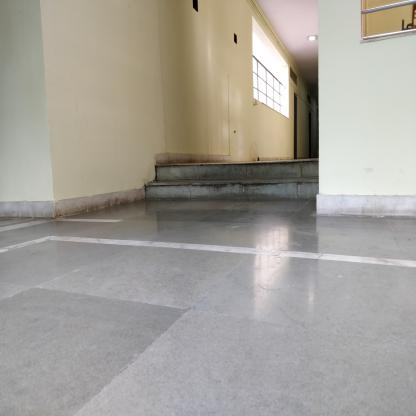stairs: (158, 161, 315, 204)
